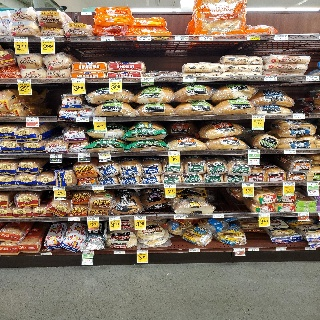All PRICE TAGS: (17, 78, 31, 84), (175, 35, 188, 41), (13, 37, 28, 42), (40, 37, 54, 42), (101, 36, 115, 41), (137, 36, 151, 41), (307, 76, 320, 81), (275, 35, 288, 40), (25, 117, 38, 122), (199, 35, 212, 40), (247, 35, 260, 40), (109, 77, 122, 82), (141, 77, 154, 82), (76, 117, 89, 122), (93, 117, 106, 122), (168, 151, 181, 156), (264, 76, 276, 81), (259, 213, 270, 218), (252, 115, 265, 119), (183, 77, 196, 81), (307, 182, 319, 186), (284, 150, 296, 154), (293, 115, 305, 119), (72, 78, 84, 82), (50, 154, 62, 158), (78, 153, 90, 157), (99, 153, 111, 157), (53, 186, 65, 190), (164, 184, 176, 188), (68, 217, 80, 221), (87, 217, 99, 221), (134, 216, 146, 220), (174, 215, 186, 219), (212, 214, 224, 218), (276, 247, 287, 251), (298, 212, 309, 216), (284, 182, 295, 186), (243, 183, 254, 187), (249, 150, 260, 154), (109, 216, 120, 220), (114, 250, 125, 254), (137, 250, 148, 254), (189, 248, 200, 252), (83, 251, 93, 255), (92, 186, 104, 189), (40, 253, 52, 256), (305, 247, 316, 250), (234, 248, 245, 251), (248, 248, 259, 251)
